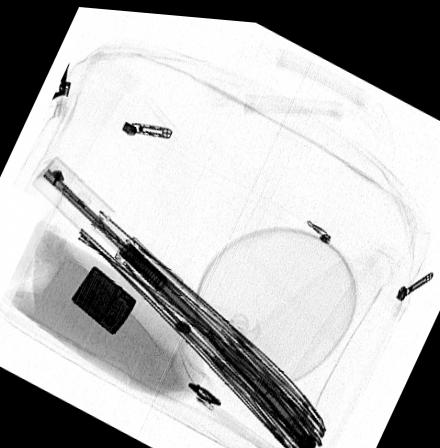Lighter: (70, 263, 137, 333)
